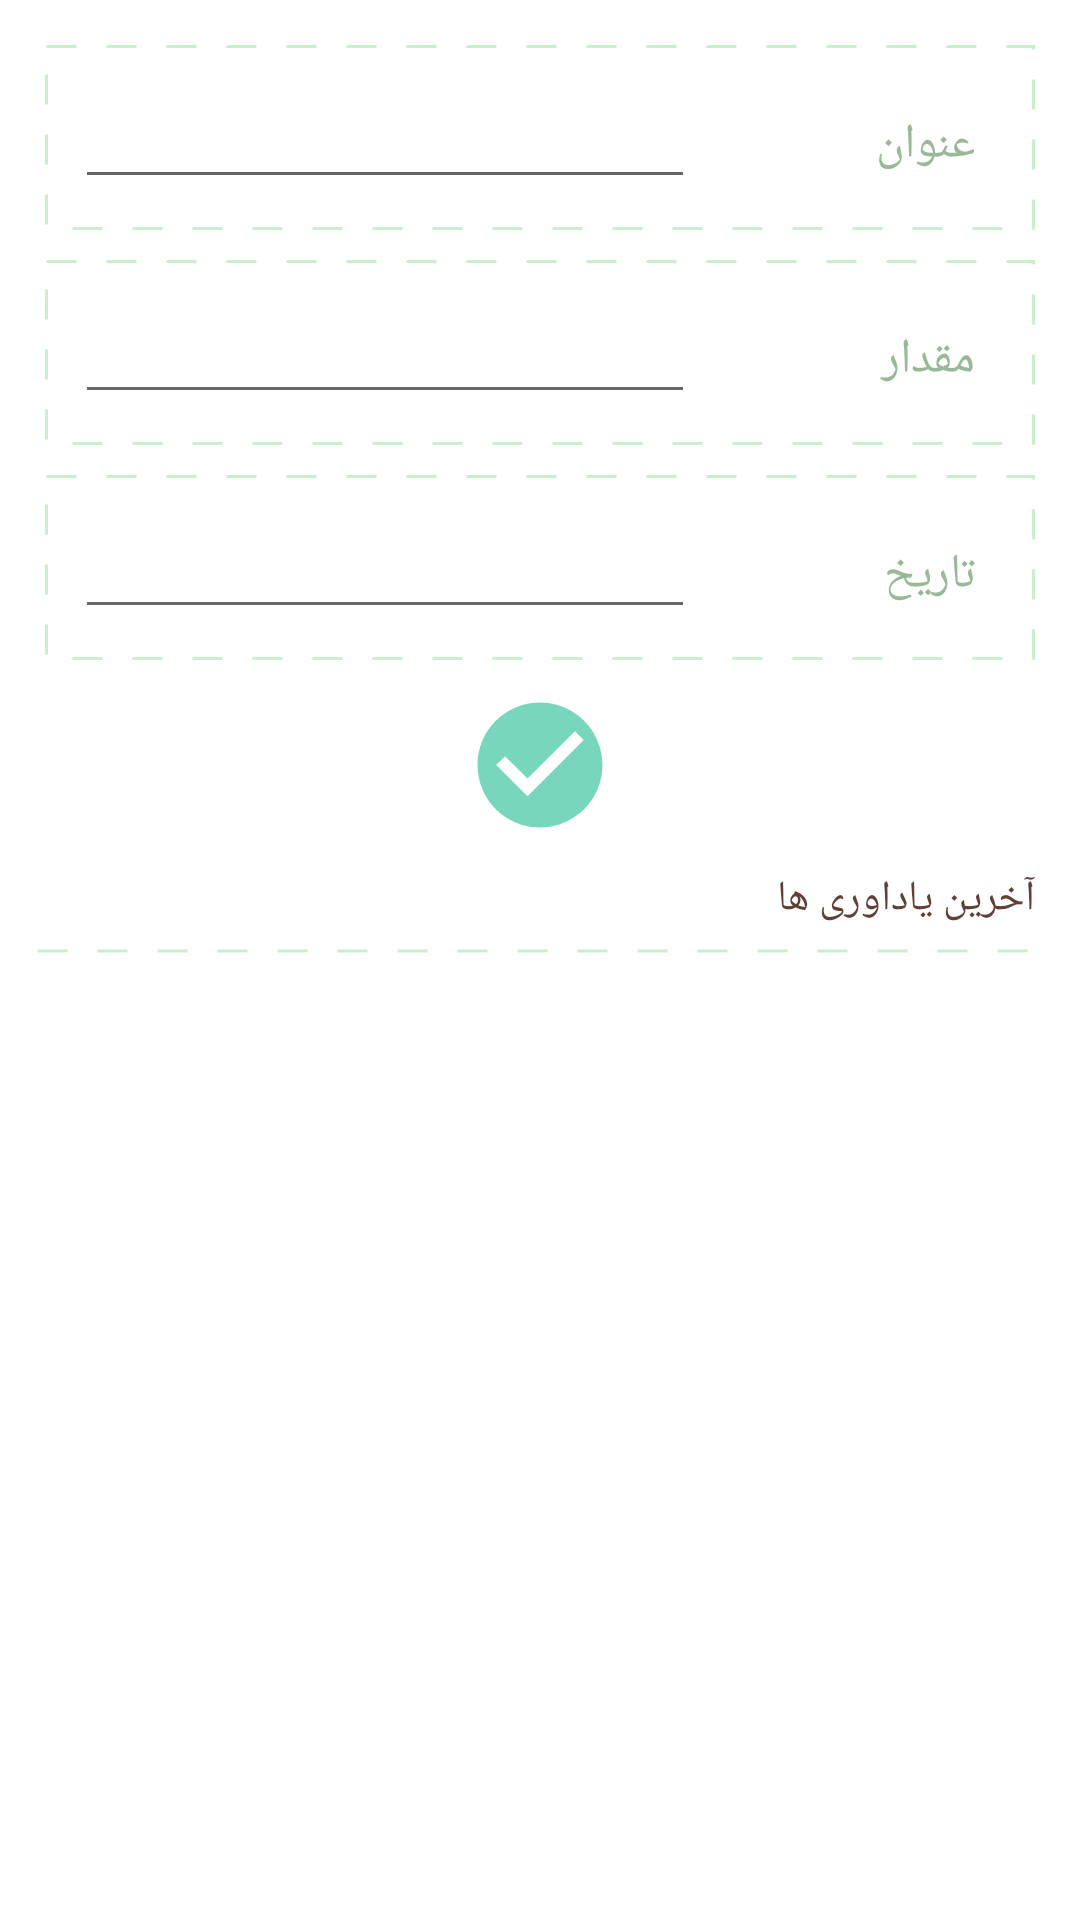

Where icons sit on this 1080 × 1920 app screen, as (x1, y1, x2, y2):
saveitems: (477, 702, 603, 828)
